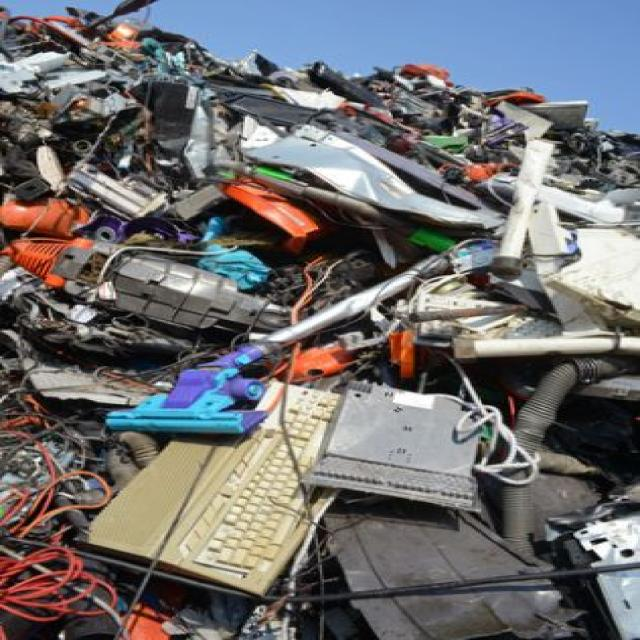electronic: (109, 342, 366, 636)
